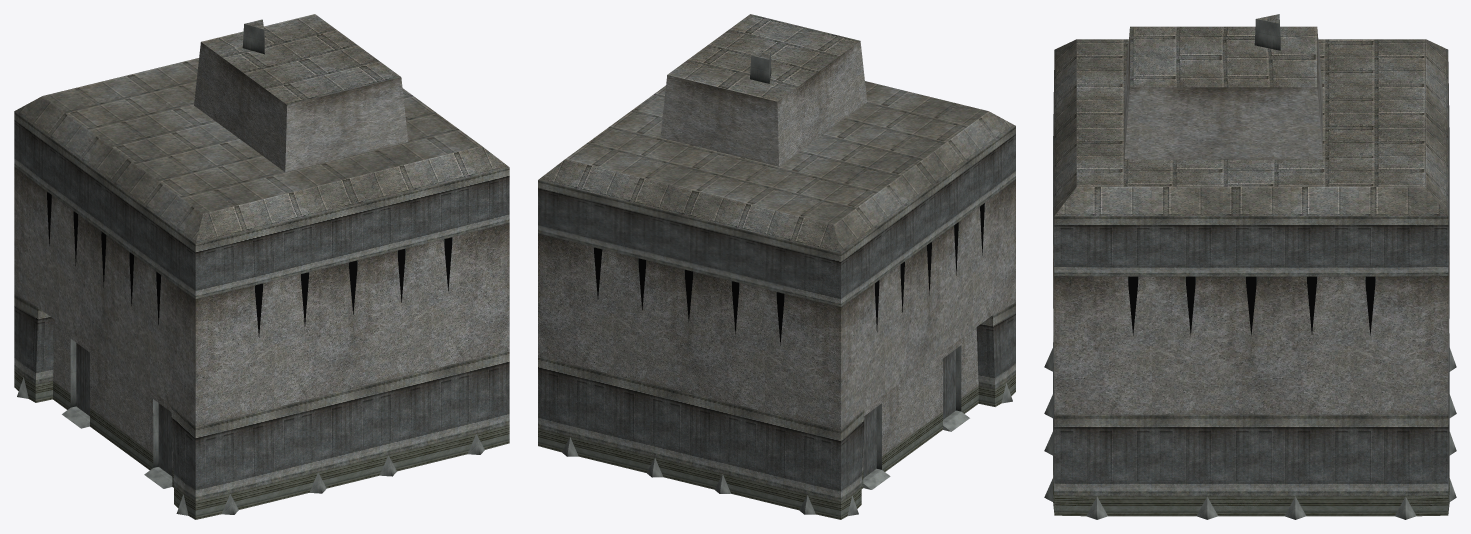
Rendered from thm_corl_imprv_slum_16x16_s01_l2.fbx.
3 renders of one model, left to right at view 1: azimuth 30°, elevation 25°; view 2: azimuth 150°, elevation 25°; view 3: azimuth 270°, elevation 25°, orthographic. The views are drawn at different scales.
Visible parts, largest first — view 1: mesh_node; view 2: mesh_node; view 3: mesh_node.
Part boxes in pixels (<box>): mesh_node: <box>14,14,509,519</box>; mesh_node: <box>538,14,1015,519</box>; mesh_node: <box>1044,14,1456,519</box>.
Size of the model in its own units: 15.04 by 16.66 by 14.98.
